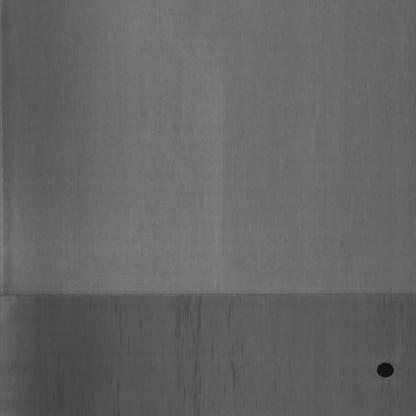punching_hole: (370, 355, 397, 381)
welding_line: (0, 283, 412, 309)
